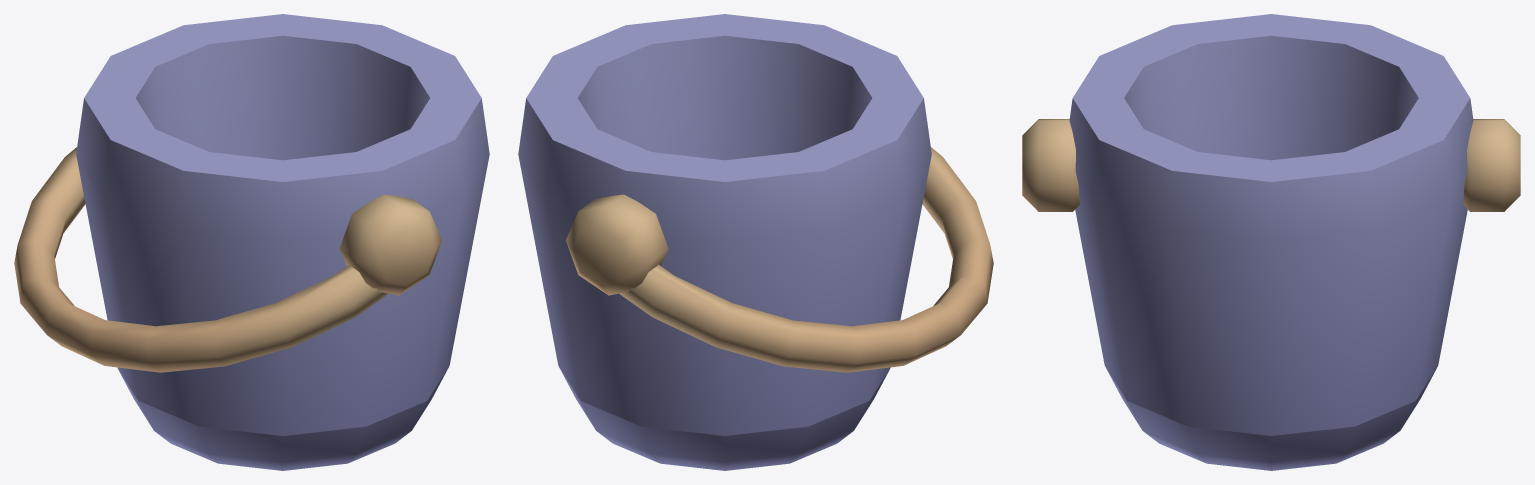
The model's file is toy-bucket.glb.
The picture shows the model from 3 angles, left to right: view 1: azimuth 30°, elevation 25°; view 2: azimuth 150°, elevation 25°; view 3: azimuth 270°, elevation 25°; orthographic projection.
Visible parts, largest first — view 1: toy-bucket; view 2: toy-bucket; view 3: toy-bucket.
Boxes of the visible parts, x1,y1,x2,y2 form: toy-bucket: (14, 14, 489, 470); toy-bucket: (518, 14, 993, 470); toy-bucket: (1022, 14, 1520, 470).
Size of the model in its own units: 0.3046 by 0.2231 by 0.3169.
